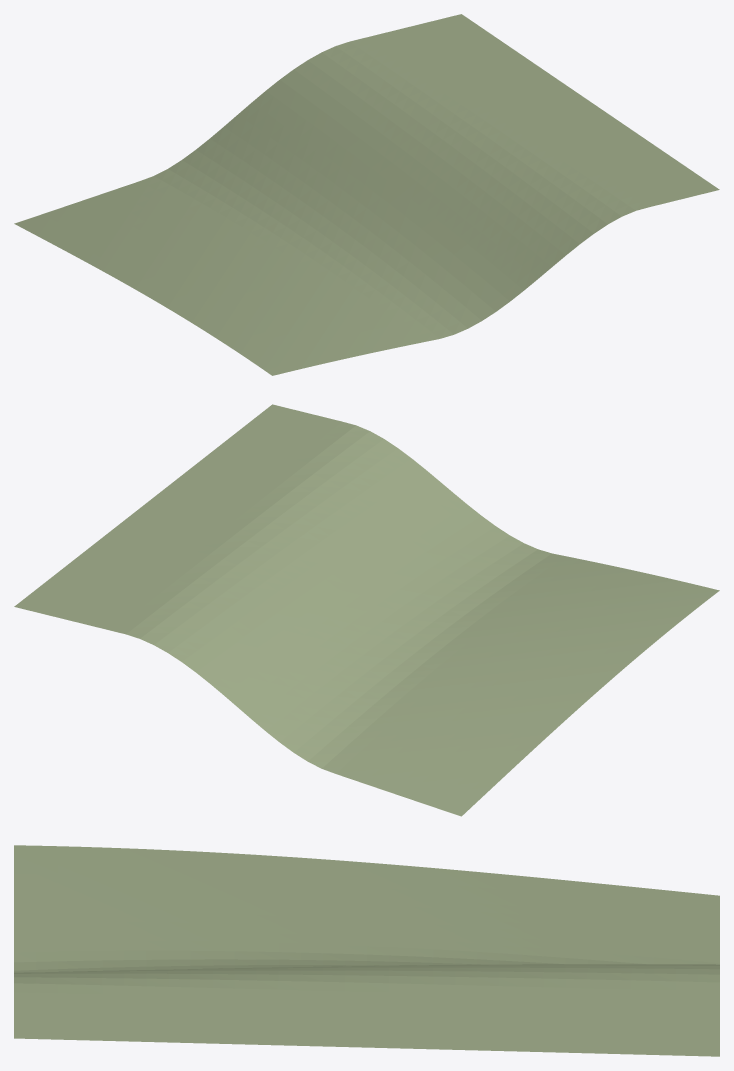
File: alpine-2-8.glb
The picture shows the model from 3 angles, top to bottom: view 1: azimuth 30°, elevation 25°; view 2: azimuth 150°, elevation 25°; view 3: azimuth 270°, elevation 25°; orthographic projection. The views are drawn at different scales.
Parts seen in each view (by area): view 1: alpine-2-8; view 2: alpine-2-8; view 3: alpine-2-8.
Boxes of the visible parts, x1,y1,x2,y2 form: alpine-2-8: (14, 14, 719, 375); alpine-2-8: (14, 404, 719, 816); alpine-2-8: (14, 845, 719, 1056).
Size of the model in its own units: 256 by 62.22 by 256.
